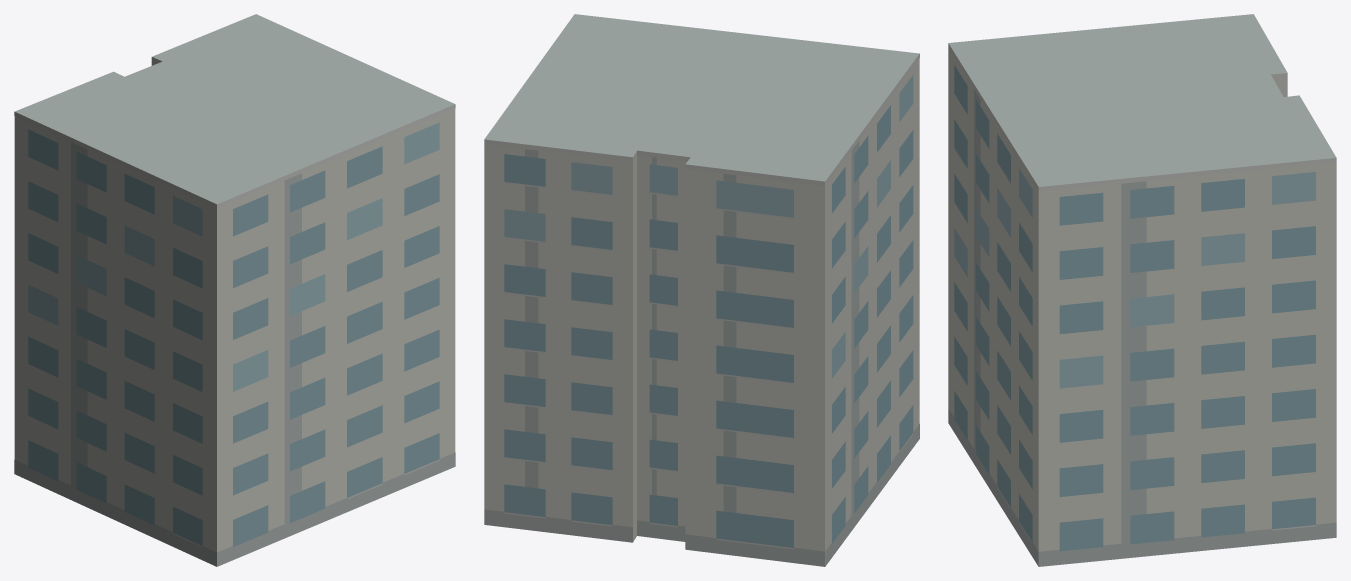
File: survey-upis-32915052.glb
3 renders of one model, left to right at view 1: azimuth 30°, elevation 25°; view 2: azimuth 150°, elevation 25°; view 3: azimuth 270°, elevation 25°, orthographic. The views are drawn at different scales.
Parts seen in each view (by area): view 1: survey-upis-32915052.tmp; view 2: survey-upis-32915052.tmp; view 3: survey-upis-32915052.tmp.
Boxes of the visible parts, left/top/right/bottom form: survey-upis-32915052.tmp: left=14, top=14, right=455, bottom=566; survey-upis-32915052.tmp: left=484, top=14, right=919, bottom=566; survey-upis-32915052.tmp: left=948, top=14, right=1336, bottom=566.
Bounding box in the file's own units: 18.99 × 19.44 × 18.02.
